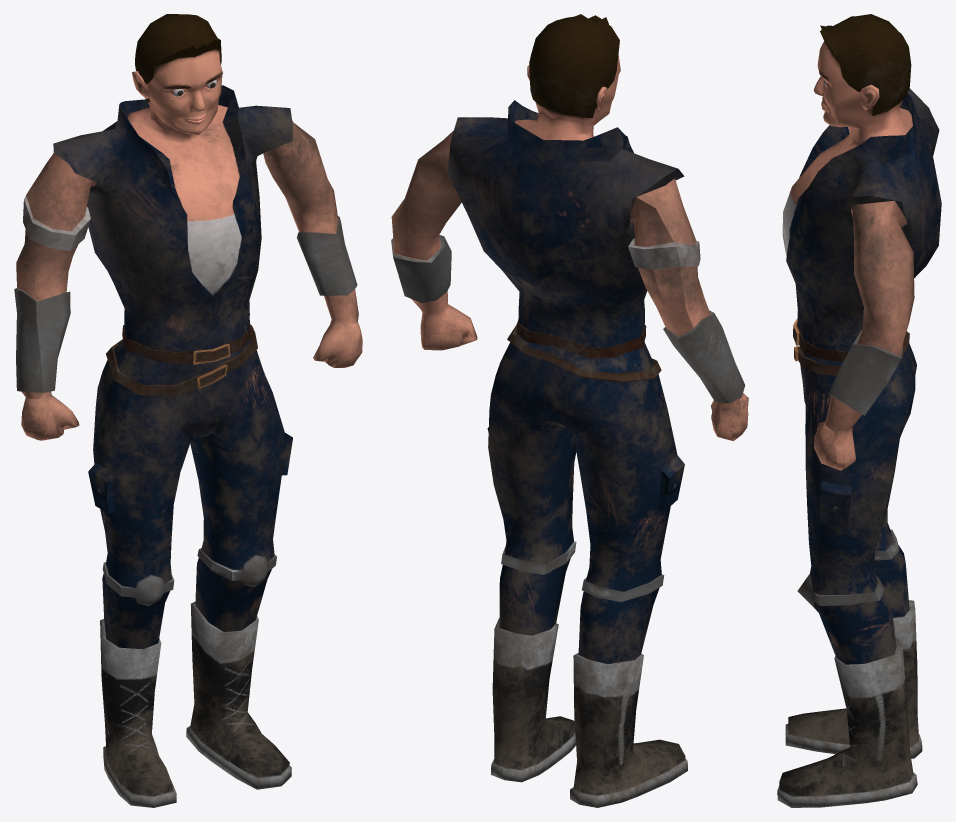
Rendered from Anim_coger_objeto_jugador.0016.obj.
The picture shows the model from 3 angles, left to right: view 1: azimuth 30°, elevation 25°; view 2: azimuth 150°, elevation 25°; view 3: azimuth 270°, elevation 25°; orthographic projection.
Parts seen in each view (by area): view 1: polySurface1; view 2: polySurface1; view 3: polySurface1.
Boxes of the visible parts, x1,y1,x2,y2 form: polySurface1: (14, 14, 362, 807); polySurface1: (391, 14, 748, 807); polySurface1: (777, 14, 941, 807).
Size of the model in its own units: 4.49 by 9.63 by 1.91.
